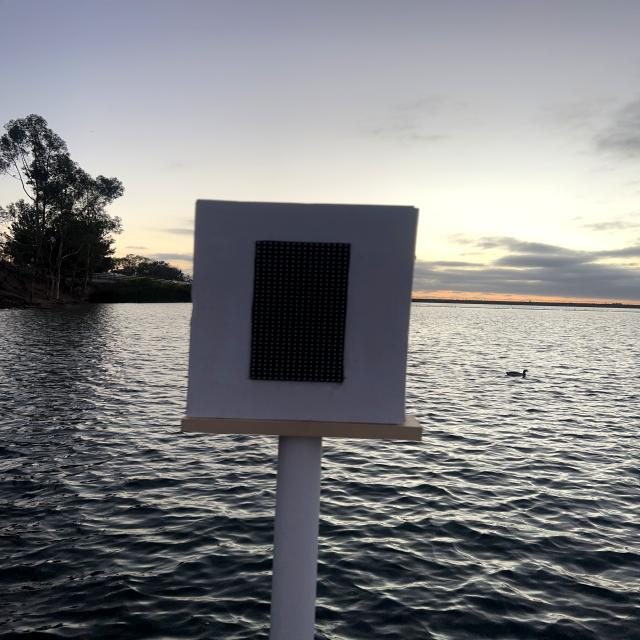led: (218, 214, 380, 404)
